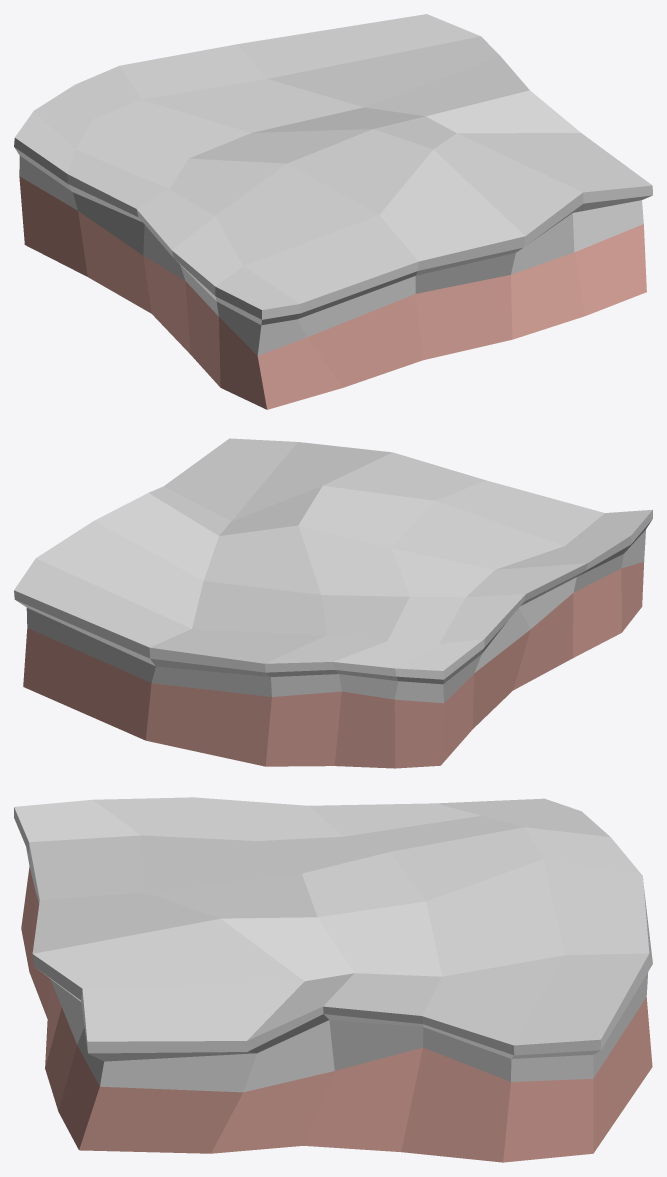
File: platform12.fbx
3 renders of one model, top to bottom at view 1: azimuth 30°, elevation 25°; view 2: azimuth 150°, elevation 25°; view 3: azimuth 270°, elevation 25°, orthographic. The views are drawn at different scales.
Parts seen in each view (by area): view 1: Plane; view 2: Plane; view 3: Plane.
Part boxes in pixels (x1,y1,x2,y2): Plane: [14, 14, 652, 409]; Plane: [14, 438, 652, 768]; Plane: [14, 797, 652, 1162].
Size of the model in its own units: 1151 by 345 by 1252.
